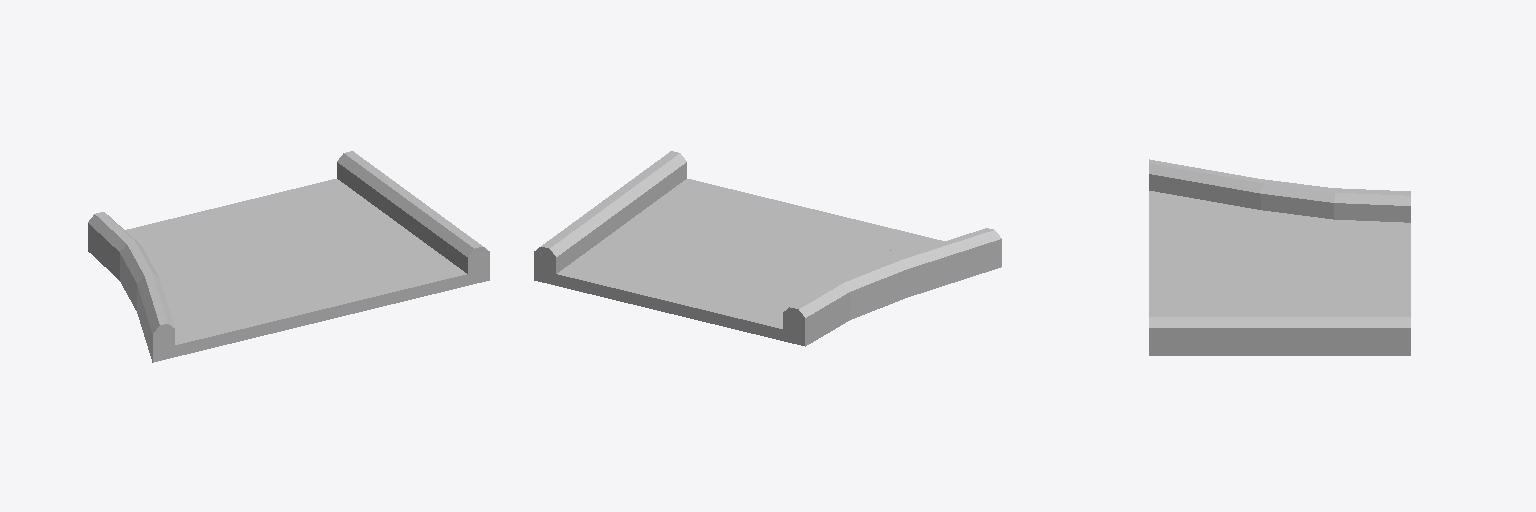
Rendered from runoff_transition2.obj.
3 views of the same model, side by side, from view 1: azimuth 30°, elevation 25°; view 2: azimuth 150°, elevation 25°; view 3: azimuth 270°, elevation 25° (orthographic).
Visible parts, largest first — view 1: object1, object4, object3, object2; view 2: object1, object3, object4, object2; view 3: object1, object4, object3, object2.
Boxes of the visible parts, <box> form: object1: <box>125,179,467,340</box>; object4: <box>337,151,489,285</box>; object3: <box>88,212,174,362</box>; object2: <box>152,264,240,356</box>; object1: <box>556,179,912,340</box>; object3: <box>783,228,1001,346</box>; object4: <box>534,151,686,285</box>; object2: <box>867,234,944,267</box>; object1: <box>1149,223,1410,312</box>; object4: <box>1149,313,1410,355</box>; object3: <box>1149,159,1410,222</box>; object2: <box>1149,191,1403,222</box>.
Size of the model in its own units: 1.49 by 0.15 by 1.